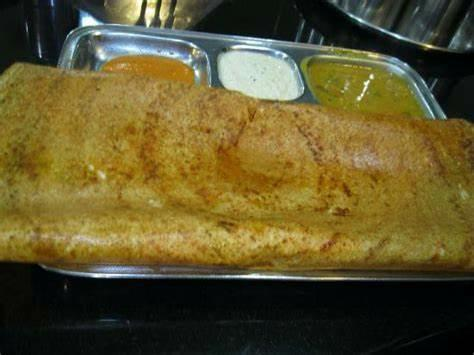CoconutChutney: (218, 52, 299, 101)
Dosa: (0, 62, 474, 272)
